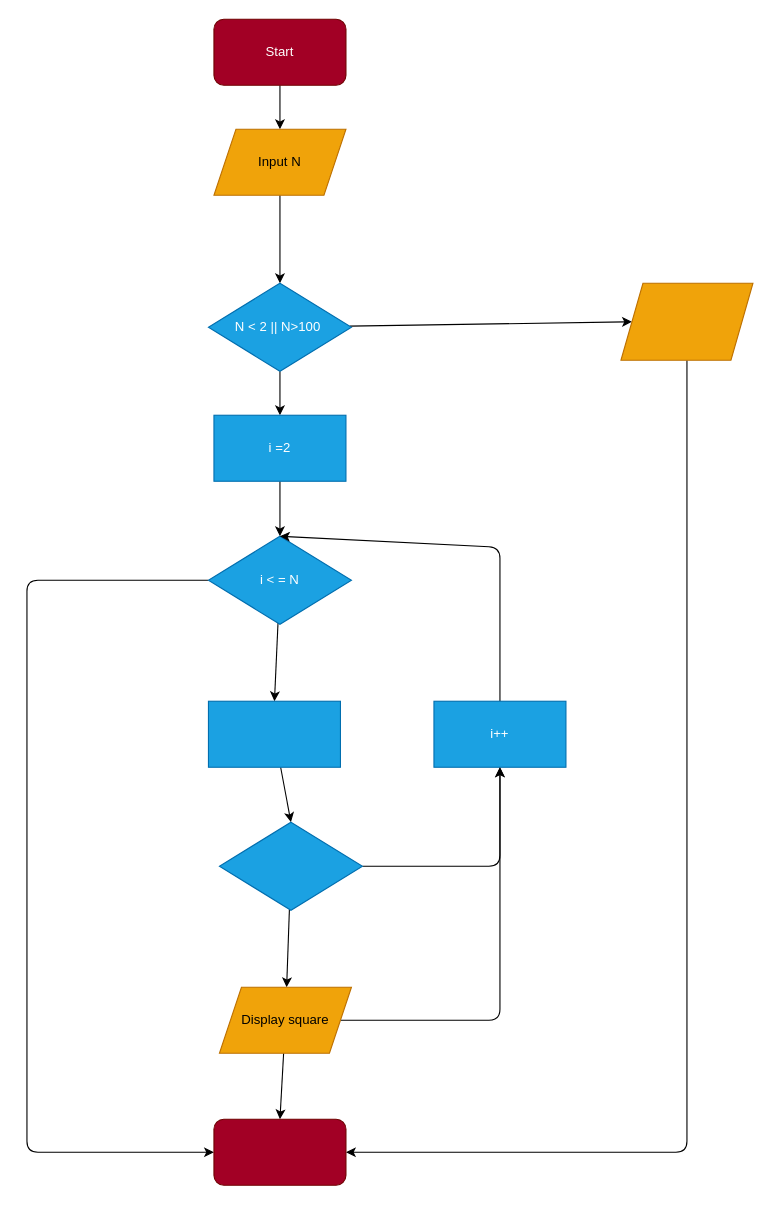
The diagram is 772 pixels wide and 1205 high, and some of its shapes have lost their labels. The centre of each missing label's shape, as x and y in pixels:
DIsplay"nhap lai": (686,321)
End: (279,1151)
square % 2 == 0: (290,865)
square = i*i: (273,733)
